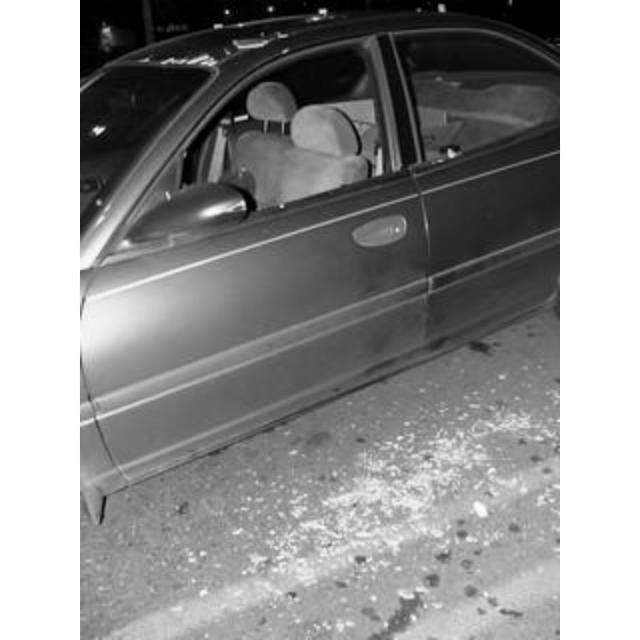doorouter-dent: (136, 38, 398, 320)
